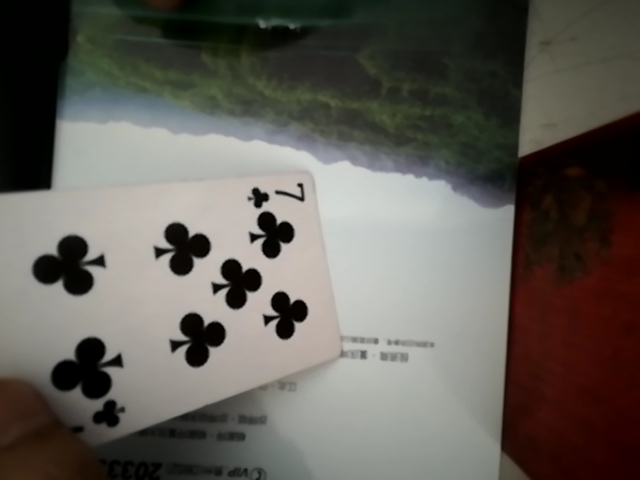mh 7: (6, 159, 345, 446)
